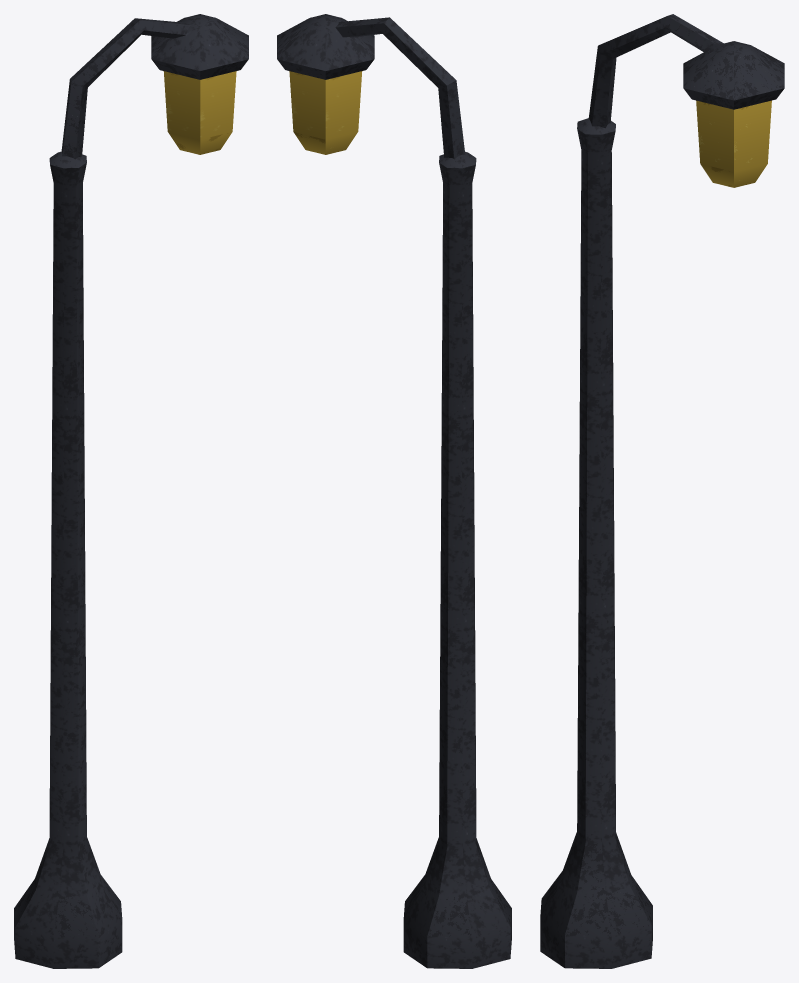
Rendered from street_lamp.glb.
3 views of the same model, side by side, from view 1: azimuth 30°, elevation 25°; view 2: azimuth 150°, elevation 25°; view 3: azimuth 330°, elevation 25° (orthographic). The views are drawn at different scales.
Parts seen in each view (by area): view 1: Prop; view 2: Prop; view 3: Prop.
Part boxes in pixels (x1,y1,x2,y2): Prop: [14, 14, 248, 968]; Prop: [277, 14, 511, 968]; Prop: [540, 14, 784, 968].
Size of the model in its own units: 1.15 by 4.29 by 0.52.
Materials: 2 (2 with a texture image).
